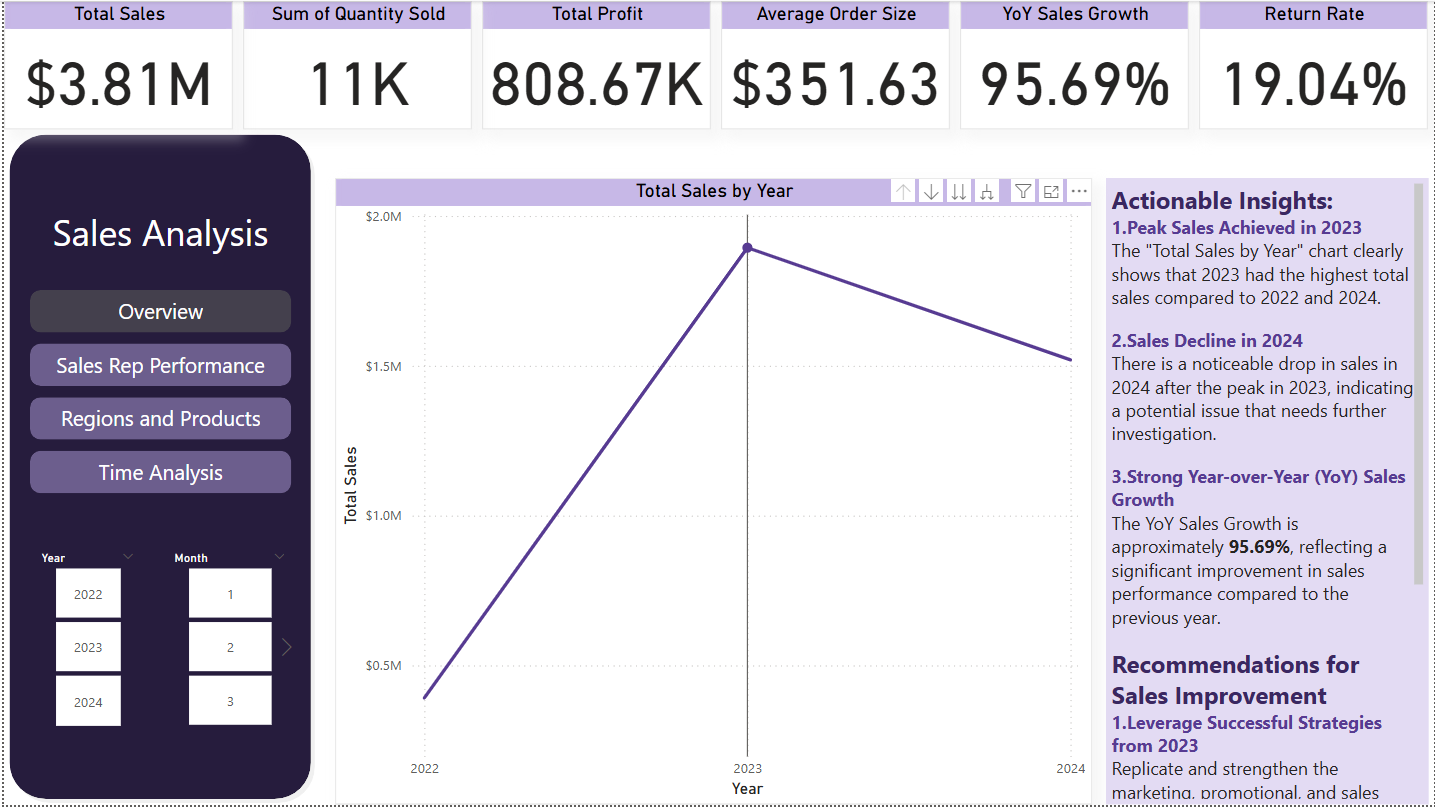

This screenshot's page, from the dashboard's own definition file:
{"tool":"powerbi","page":{"name":"Overview","canvas":[1280,720],"ordinal":0},"visuals":[{"type":"card","title":"Total Profit","fields":{"Values":["Orders.Total Profit"]},"box":[428,0,205,115],"z":0},{"type":"card","title":"Average Order Size","fields":{"Values":["Orders.Average Order Size"]},"box":[642,0,205,115],"z":1000},{"type":"card","title":"Sum of Quantity Sold","fields":{"Values":["Sum(Orders.Quantity_Sold)"]},"box":[214,0,205,115],"z":2000},{"type":"card","title":"YoY Sales Growth","fields":{"Values":["Orders.YoY Sales Growth"]},"box":[856,0,205,115],"z":3000},{"type":"card","title":"Return Rate","fields":{"Values":["Orders.Return Rate"]},"box":[1070,0,205,115],"z":4000},{"type":"shape","box":[0,114.6,280,605.4],"z":5000},{"type":"pageNavigator","box":[23.3,258.8,234.6,184.5],"z":6000},{"type":"textbox","box":[33.1,179.1,214,65.4],"z":7000},{"type":"lineChart","fields":{"Y":["Orders.Total Sales"],"Category":["Orders.Year","Orders.Month"]},"box":[296.7,158.9,677.8,561.1],"z":8000},{"type":"slicer","fields":{"Values":["Orders.Year"]},"box":[20.8,486.8,107.9,168.6],"z":9000},{"type":"slicer","fields":{"Values":["Orders.Month"]},"box":[139.7,487.2,124.5,168.4],"z":10000},{"type":"card","title":"Total Sales","fields":{"Values":["Sum(Orders.Total_Sales)"]},"box":[0,0,205,115],"z":11000},{"type":"textbox","box":[986.7,158.9,288.9,561.1],"z":12000}]}

Visuals, with their boxes in screenshot pixels (x1, y1, x2, y2), scaled from the page's 1280x720 canvas onto the 1435x808 screenshot:
"Total Profit" card: detection(480, 0, 710, 129)
"Average Order Size" card: detection(720, 0, 950, 129)
"Sum of Quantity Sold" card: detection(240, 0, 470, 129)
"YoY Sales Growth" card: detection(960, 0, 1189, 129)
"Return Rate" card: detection(1200, 0, 1429, 129)
shape: detection(0, 129, 314, 807)
pageNavigator: detection(26, 290, 289, 497)
textbox: detection(37, 201, 277, 274)
lineChart - Orders.Total Sales x Orders.Year: detection(333, 178, 1093, 807)
slicer - Orders.Year: detection(23, 546, 144, 736)
slicer - Orders.Month: detection(157, 547, 296, 736)
"Total Sales" card: detection(0, 0, 230, 129)
textbox: detection(1106, 178, 1430, 807)
